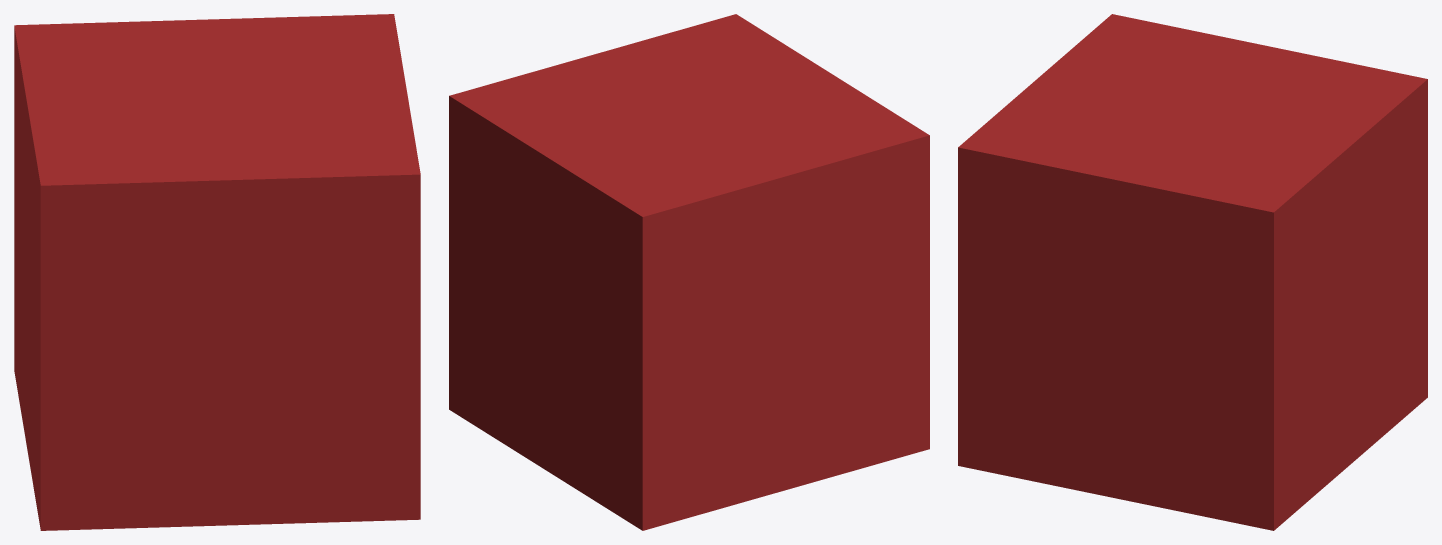
The model's file is redCube.dae.
3 views of the same model, side by side, from view 1: azimuth 30°, elevation 25°; view 2: azimuth 150°, elevation 25°; view 3: azimuth 270°, elevation 25° (orthographic). The views are drawn at different scales.
Parts seen in each view (by area): view 1: redCube; view 2: redCube; view 3: redCube.
Part boxes in pixels (left/top/right/bottom): redCube: left=14, top=14, right=420, bottom=530; redCube: left=449, top=14, right=929, bottom=530; redCube: left=958, top=14, right=1427, bottom=530.
Size of the model in its own units: 2.67 by 2 by 2.67.
